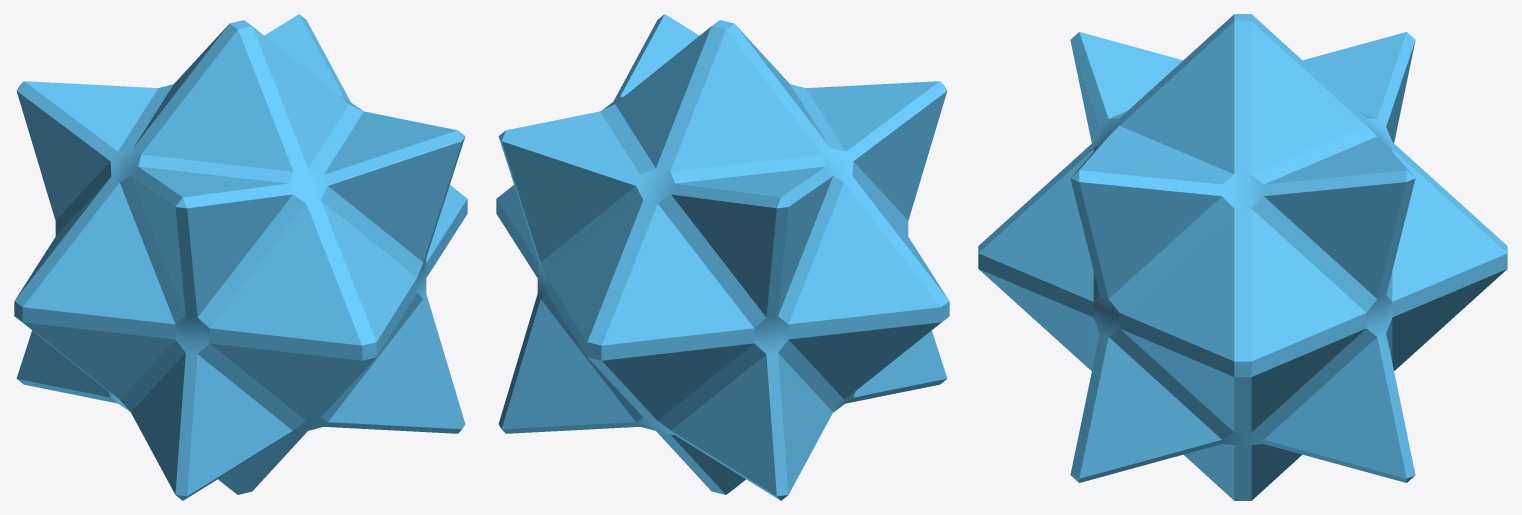
File: st3_starobj2.fbx
3 renders of one model, left to right at view 1: azimuth 30°, elevation 25°; view 2: azimuth 150°, elevation 25°; view 3: azimuth 270°, elevation 25°, orthographic. The views are drawn at different scales.
Parts seen in each view (by area): view 1: Cube_002; view 2: Cube_002; view 3: Cube_002.
Part boxes in pixels (box(x1,y1,x2,y2)): Cube_002: box(14, 14, 467, 500); Cube_002: box(496, 14, 949, 500); Cube_002: box(978, 14, 1507, 500).
Size of the model in its own units: 141 by 141 by 141.
